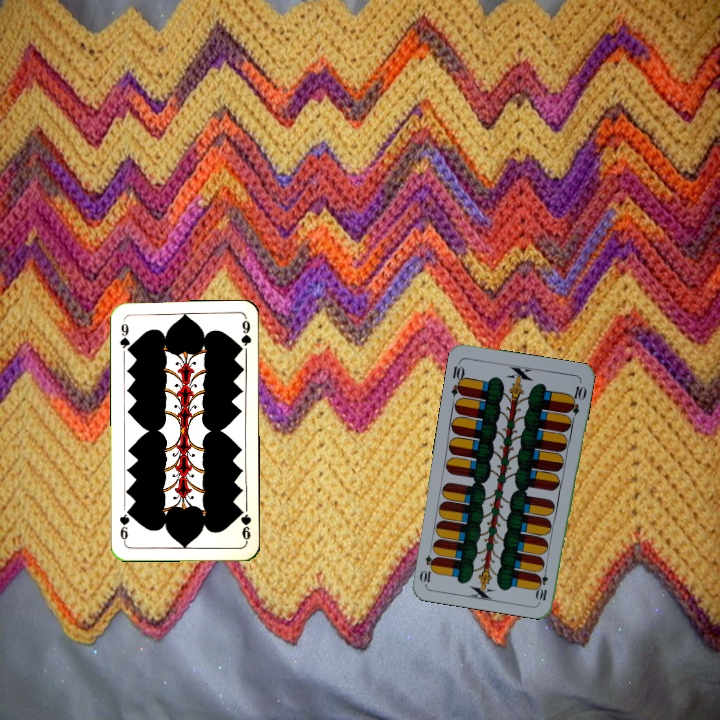E10: (447, 358, 468, 398), (534, 563, 550, 603)
G9: (235, 504, 253, 544), (116, 316, 133, 356)
